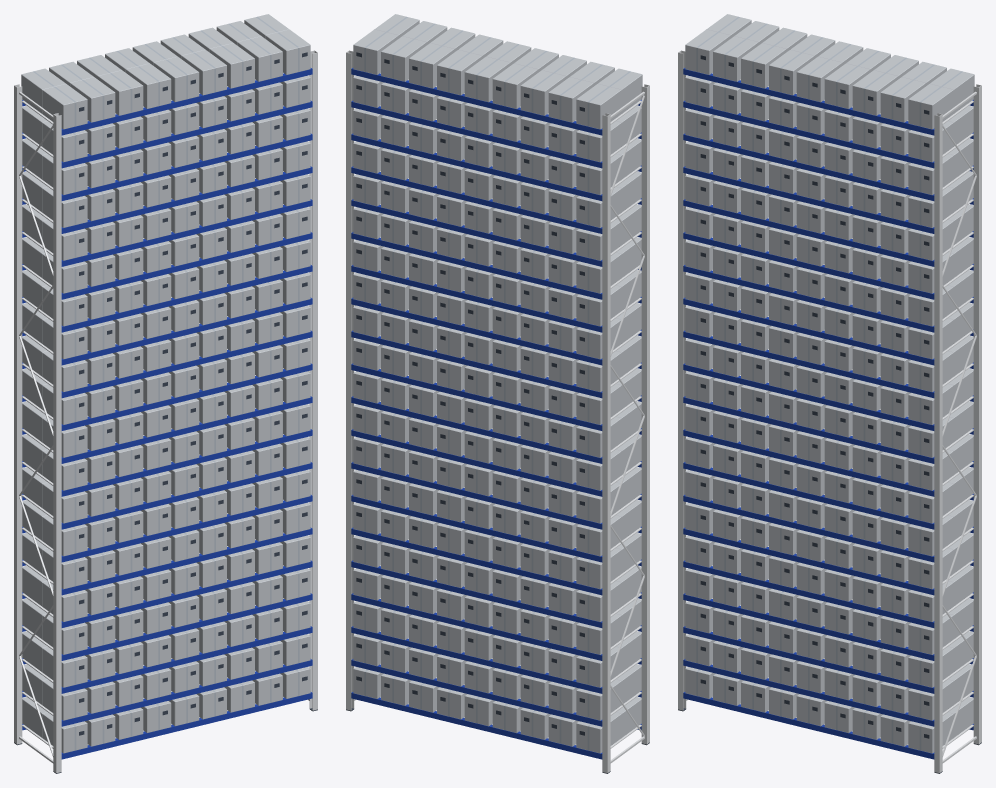
File: SM_MPR_CADRack_F20_W144_Standard.fbx
The picture shows the model from 3 angles, left to right: view 1: azimuth 30°, elevation 25°; view 2: azimuth 150°, elevation 25°; view 3: azimuth 330°, elevation 25°; orthographic projection.
Visible parts, largest first — view 1: SM_MPR_CADRack_F20_W144_Standard; view 2: SM_MPR_CADRack_F20_W144_Standard; view 3: SM_MPR_CADRack_F20_W144_Standard.
Part boxes in pixels (left/top/right/bottom): SM_MPR_CADRack_F20_W144_Standard: left=14, top=14, right=317, bottom=773; SM_MPR_CADRack_F20_W144_Standard: left=346, top=14, right=649, bottom=773; SM_MPR_CADRack_F20_W144_Standard: left=678, top=14, right=981, bottom=773.
Size of the model in its own units: 381 by 107 by 929.
